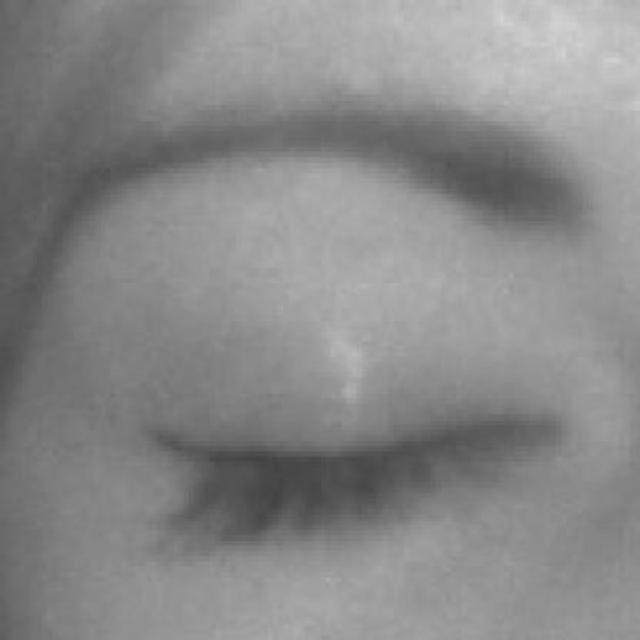drowsy: (142, 254, 584, 637)
